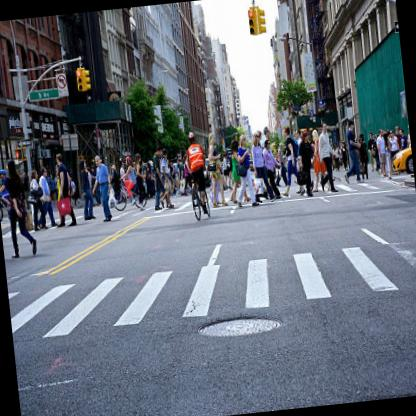manholes: (193, 294, 288, 355)
